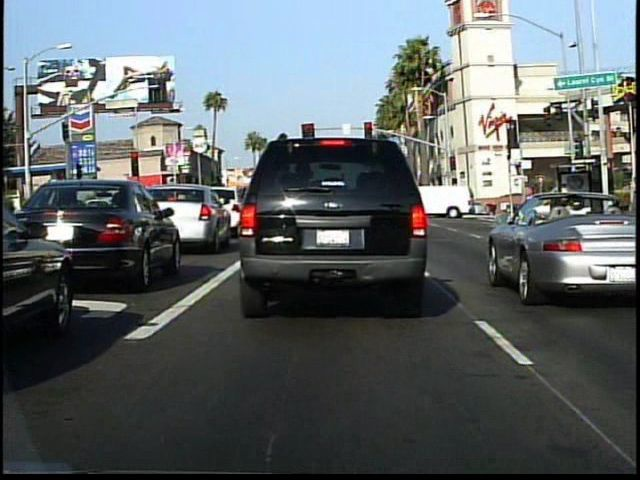person: (553, 179, 574, 232)
